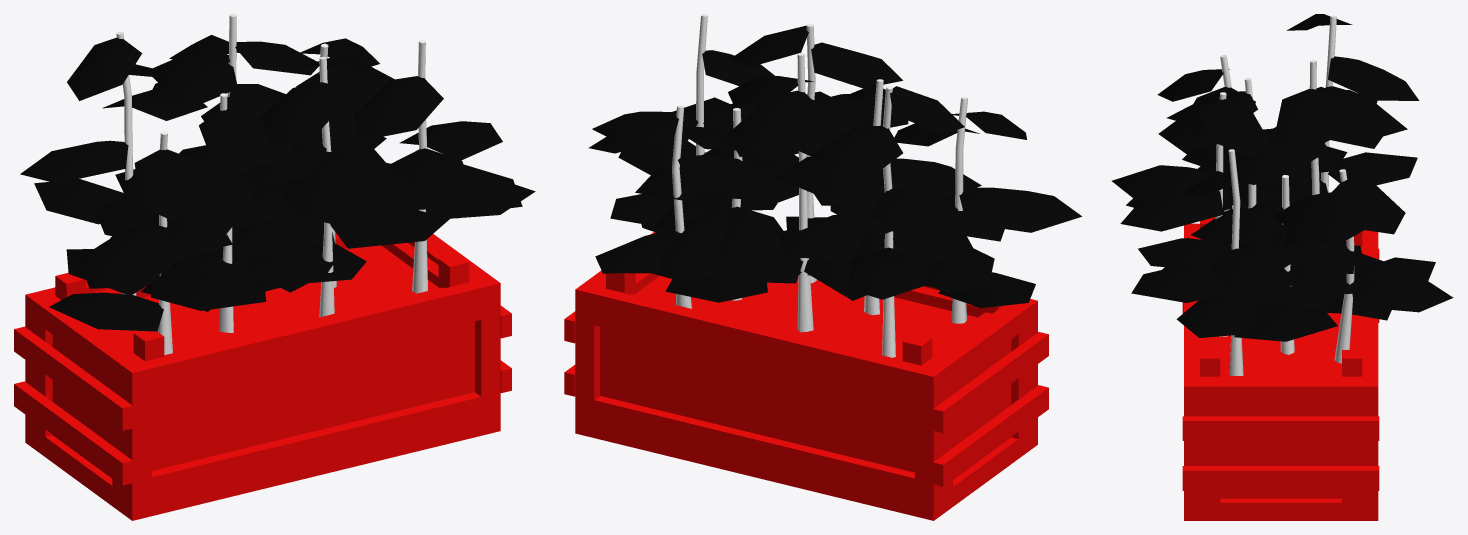
File: SM_bamboo_box_01.FBX
3 renders of one model, left to right at view 1: azimuth 30°, elevation 25°; view 2: azimuth 150°, elevation 25°; view 3: azimuth 270°, elevation 25°, orthographic. The views are drawn at different scales.
Visible parts, largest first — view 1: SM_bamboo_box_01_LOD0; view 2: SM_bamboo_box_01_LOD0; view 3: SM_bamboo_box_01_LOD0.
Boxes of the visible parts, x1,y1,x2,y2 form: SM_bamboo_box_01_LOD0: [14, 14, 535, 520]; SM_bamboo_box_01_LOD0: [564, 14, 1081, 520]; SM_bamboo_box_01_LOD0: [1112, 14, 1453, 520].
Size of what is drawn, in the model's own units: 263 by 188 by 226.
